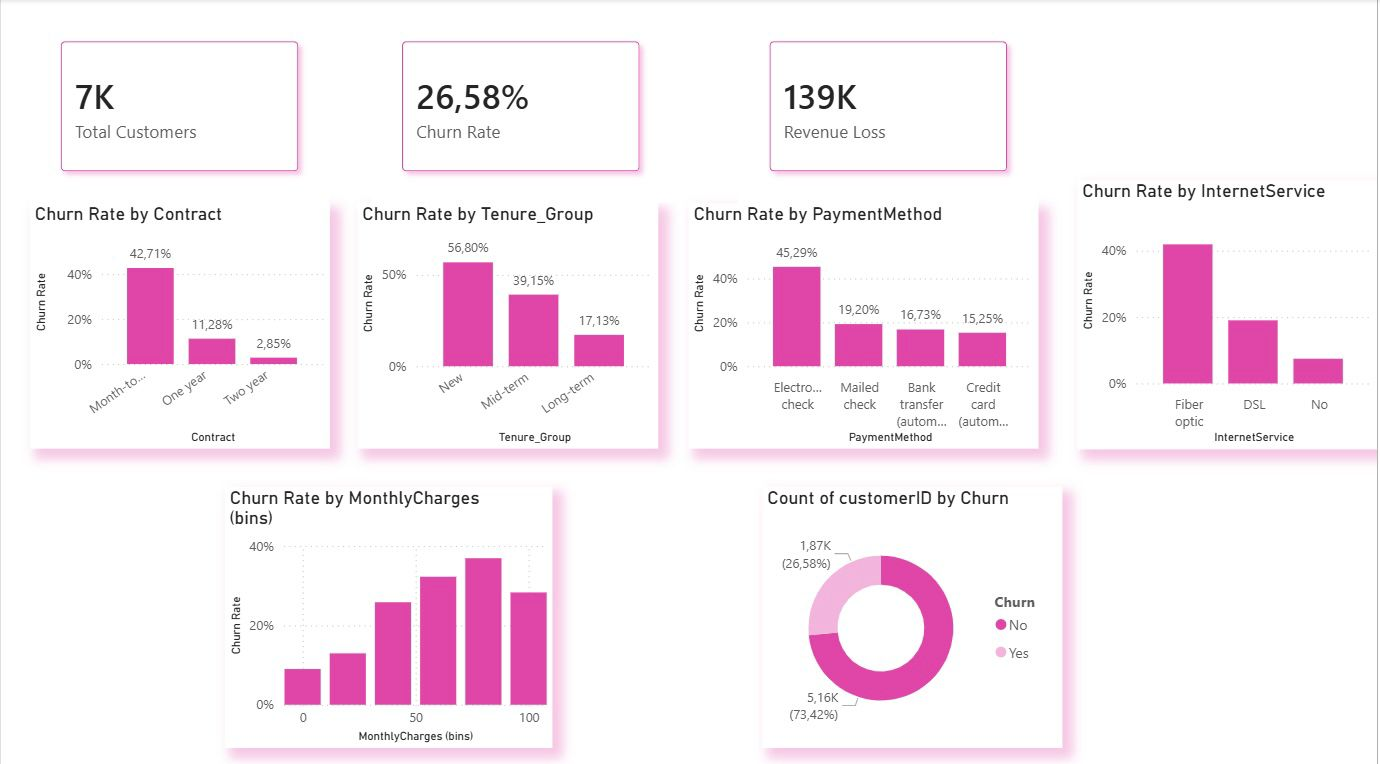

The dashboard page shown, as its layout file describes it:
{"tool":"powerbi","page":{"name":"Page 1","canvas":[1280,720],"ordinal":0},"visuals":[{"type":"clusteredColumnChart","fields":{"Category":["cleaned_telco_churn.Contract"],"Y":["cleaned_telco_churn.Churn Rate"]},"box":[26.7,189.5,279.1,229.1],"z":0},{"type":"clusteredColumnChart","fields":{"Category":["cleaned_telco_churn.Tenure_Group"],"Y":["cleaned_telco_churn.Churn Rate"]},"box":[331.4,189.5,280.2,229.1],"z":1000},{"type":"clusteredColumnChart","fields":{"Category":["cleaned_telco_churn.PaymentMethod"],"Y":["cleaned_telco_churn.Churn Rate"]},"box":[639.5,189.5,325.6,229.1],"z":2000},{"type":"cardVisual","fields":{"Data":["cleaned_telco_churn.Churn Rate"]},"box":[344.2,10.5,279.1,179.1],"z":3000},{"type":"cardVisual","fields":{"Data":["cleaned_telco_churn.Total Customers"]},"box":[26.7,10.5,279.1,179.1],"z":4000},{"type":"cardVisual","fields":{"Data":["cleaned_telco_churn.Revenue Loss"]},"box":[686,10.5,279.1,179.1],"z":5000},{"type":"clusteredColumnChart","fields":{"Y":["cleaned_telco_churn.Churn Rate"],"Category":["cleaned_telco_churn.InternetService"]},"box":[1001.2,168.6,279.1,250],"z":6000},{"type":"donutChart","fields":{"Category":["cleaned_telco_churn.Churn"],"Y":["CountNonNull(cleaned_telco_churn.customerID)"]},"box":[708.1,453.5,279.1,243],"z":7000},{"type":"clusteredColumnChart","fields":{"Category":["cleaned_telco_churn.MonthlyCharges (bins)"],"Y":["cleaned_telco_churn.Churn Rate"]},"box":[208.1,453.5,304.7,243],"z":8000}]}

Visuals, with their boxes in screenshot pixels (x1, y1, x2, y2), scaled from the page's 1280x720 canvas onto the 1380x764 screenshot:
clusteredColumnChart - cleaned_telco_churn.Contract x cleaned_telco_churn.Churn Rate: 29:201:330:444
clusteredColumnChart - cleaned_telco_churn.Tenure_Group x cleaned_telco_churn.Churn Rate: 357:201:659:444
clusteredColumnChart - cleaned_telco_churn.PaymentMethod x cleaned_telco_churn.Churn Rate: 689:201:1040:444
cardVisual - cleaned_telco_churn.Churn Rate: 371:11:672:201
cardVisual - cleaned_telco_churn.Total Customers: 29:11:330:201
cardVisual - cleaned_telco_churn.Revenue Loss: 740:11:1040:201
clusteredColumnChart - cleaned_telco_churn.Churn Rate x cleaned_telco_churn.InternetService: 1079:179:1379:444
donutChart - cleaned_telco_churn.Churn x CountNonNull(cleaned_telco_churn.customerID): 763:481:1064:739
clusteredColumnChart - cleaned_telco_churn.MonthlyCharges (bins) x cleaned_telco_churn.Churn Rate: 224:481:553:739
